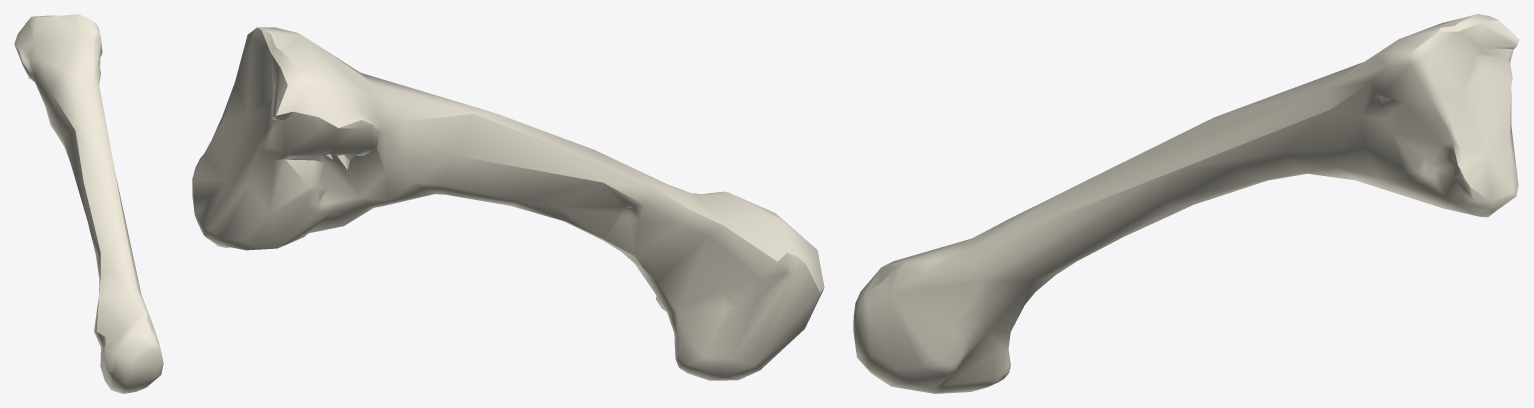
File: fma24509_fj6447.glb
3 views of the same model, side by side, from view 1: azimuth 30°, elevation 25°; view 2: azimuth 150°, elevation 25°; view 3: azimuth 270°, elevation 25° (orthographic). The views are drawn at different scales.
Visible parts, largest first — view 1: FMA24509_FJ6447; view 2: FMA24509_FJ6447; view 3: FMA24509_FJ6447.
Boxes of the visible parts, x1,y1,x2,y2 form: FMA24509_FJ6447: [14, 14, 163, 393]; FMA24509_FJ6447: [192, 27, 824, 380]; FMA24509_FJ6447: [853, 14, 1519, 393].
Bounding box in the file's own units: 0.0305 × 0.0481 × 0.065.
